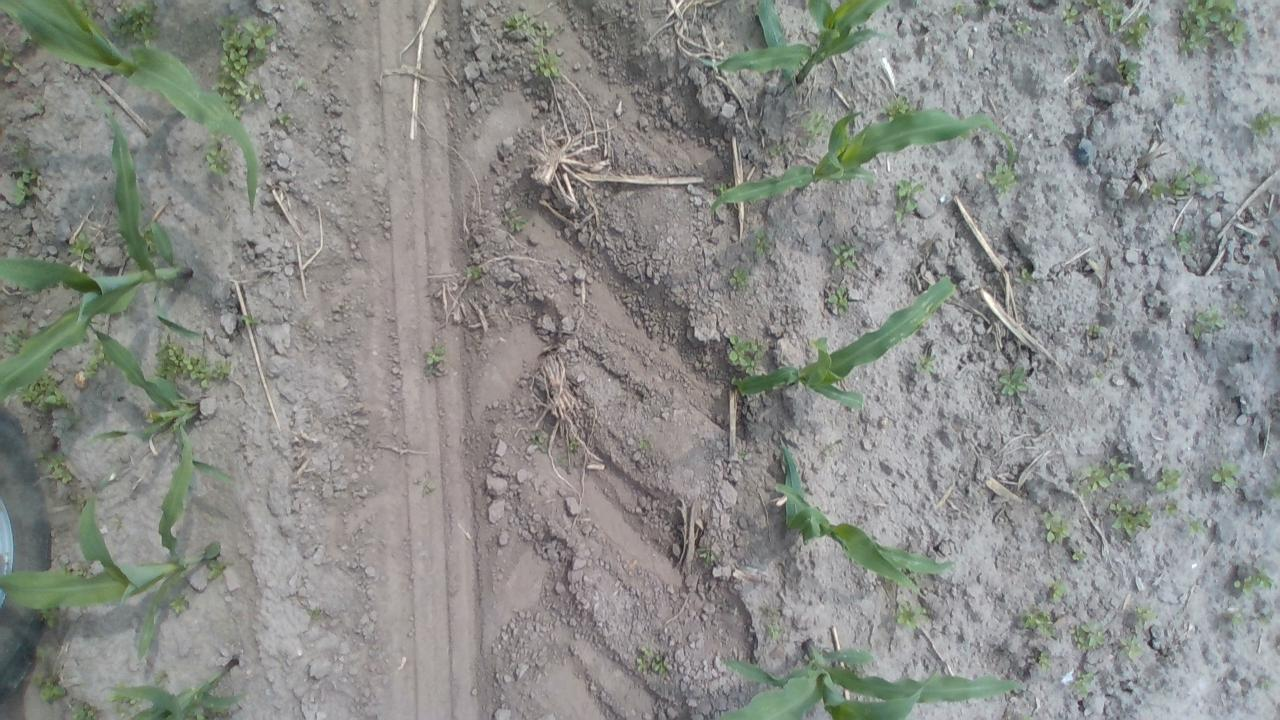Maize: (0, 93, 200, 398), (0, 1, 259, 220), (0, 424, 221, 660), (709, 107, 1017, 218), (722, 274, 956, 410), (770, 440, 956, 594), (704, 638, 1029, 720), (81, 324, 235, 488), (694, 0, 895, 89), (109, 657, 244, 720)
Weeds: (212, 14, 276, 118), (151, 339, 231, 390), (504, 11, 560, 78), (1176, 1, 1248, 53), (1084, 0, 1151, 46), (1147, 160, 1216, 200), (107, 0, 160, 50), (10, 137, 42, 206), (1078, 453, 1134, 492), (1109, 500, 1155, 538), (16, 376, 70, 408), (724, 330, 762, 374), (34, 450, 73, 485), (1186, 306, 1226, 340), (894, 177, 923, 222), (1233, 564, 1276, 594), (1068, 620, 1108, 652), (1021, 608, 1061, 637), (84, 338, 110, 382), (204, 138, 232, 176), (108, 684, 140, 716), (1208, 458, 1240, 490), (800, 110, 830, 144), (1041, 511, 1070, 546), (998, 364, 1028, 397), (895, 600, 929, 629), (988, 162, 1016, 197), (636, 646, 668, 676), (1170, 226, 1200, 256), (34, 672, 66, 700), (762, 610, 788, 644), (1248, 109, 1280, 136), (882, 93, 916, 118), (826, 282, 851, 316), (66, 232, 95, 260), (1113, 59, 1142, 87), (831, 241, 858, 271), (1154, 465, 1182, 492), (138, 222, 160, 256), (1072, 669, 1098, 696), (1132, 601, 1158, 628), (1118, 635, 1144, 661), (425, 342, 445, 375), (3, 328, 28, 353), (1046, 578, 1070, 604), (911, 352, 938, 374), (70, 702, 101, 720), (205, 558, 228, 582), (504, 211, 526, 236), (528, 430, 550, 454), (754, 229, 772, 258), (1011, 15, 1034, 36), (62, 411, 82, 435), (168, 594, 190, 615), (698, 548, 721, 567), (728, 268, 752, 286), (58, 562, 86, 577), (40, 609, 60, 630), (809, 336, 828, 358), (1185, 518, 1207, 537), (0, 40, 16, 66), (1036, 648, 1054, 671), (1062, 3, 1080, 26), (1224, 608, 1244, 628), (1162, 498, 1181, 519), (1168, 90, 1190, 108), (1084, 322, 1105, 340), (237, 312, 260, 328), (1230, 300, 1250, 318), (1070, 546, 1090, 564), (198, 709, 230, 720), (1017, 266, 1036, 284), (1265, 480, 1280, 501), (276, 110, 294, 127), (1257, 611, 1274, 628), (637, 437, 654, 454), (420, 481, 437, 498), (466, 264, 483, 280), (292, 77, 308, 94), (714, 182, 734, 195), (951, 0, 967, 16), (307, 606, 323, 622), (154, 671, 170, 687), (771, 142, 788, 157), (566, 438, 582, 453), (730, 374, 744, 390), (980, 0, 997, 13), (21, 33, 35, 48), (32, 102, 47, 116), (1084, 72, 1098, 86), (1259, 677, 1274, 690), (1091, 369, 1106, 382), (1070, 57, 1082, 69), (737, 450, 748, 459)
